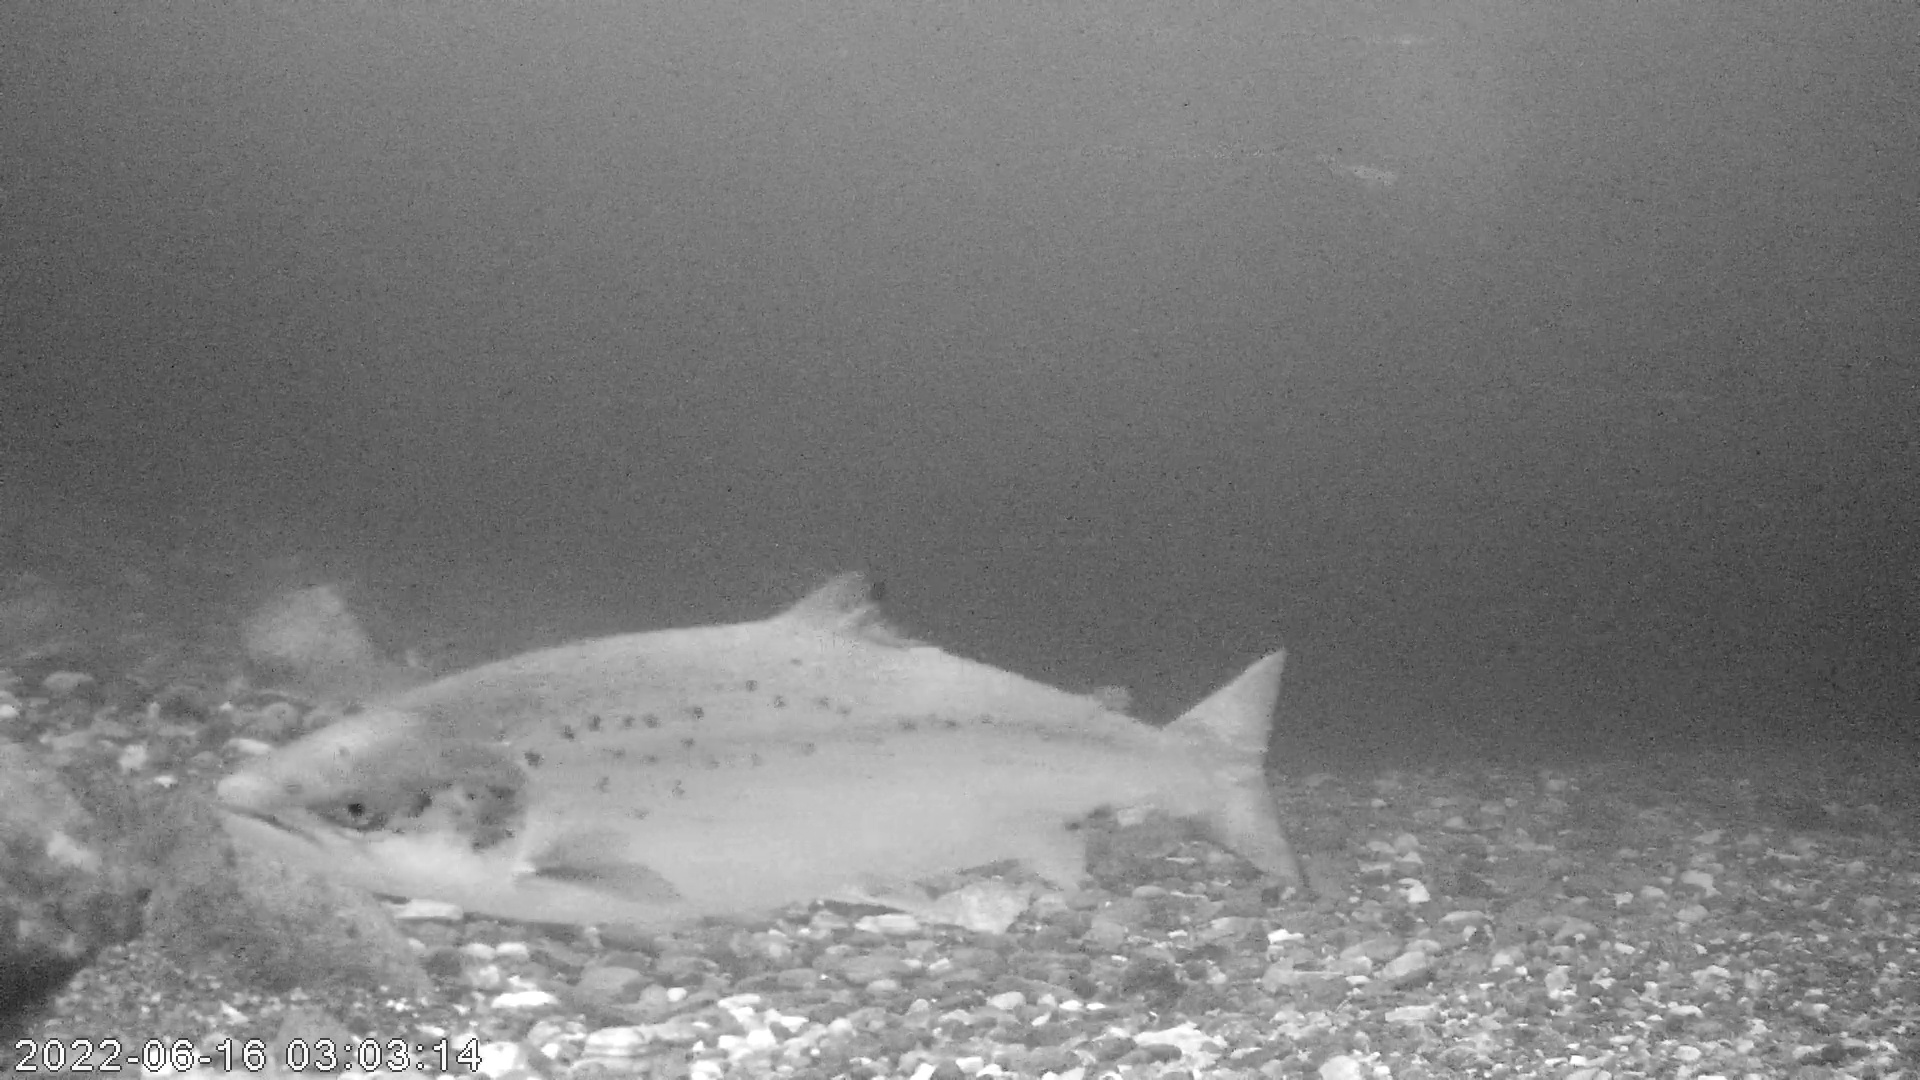salmon: (212, 568, 1308, 927)
